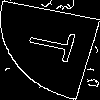T: (25, 25, 88, 66)
